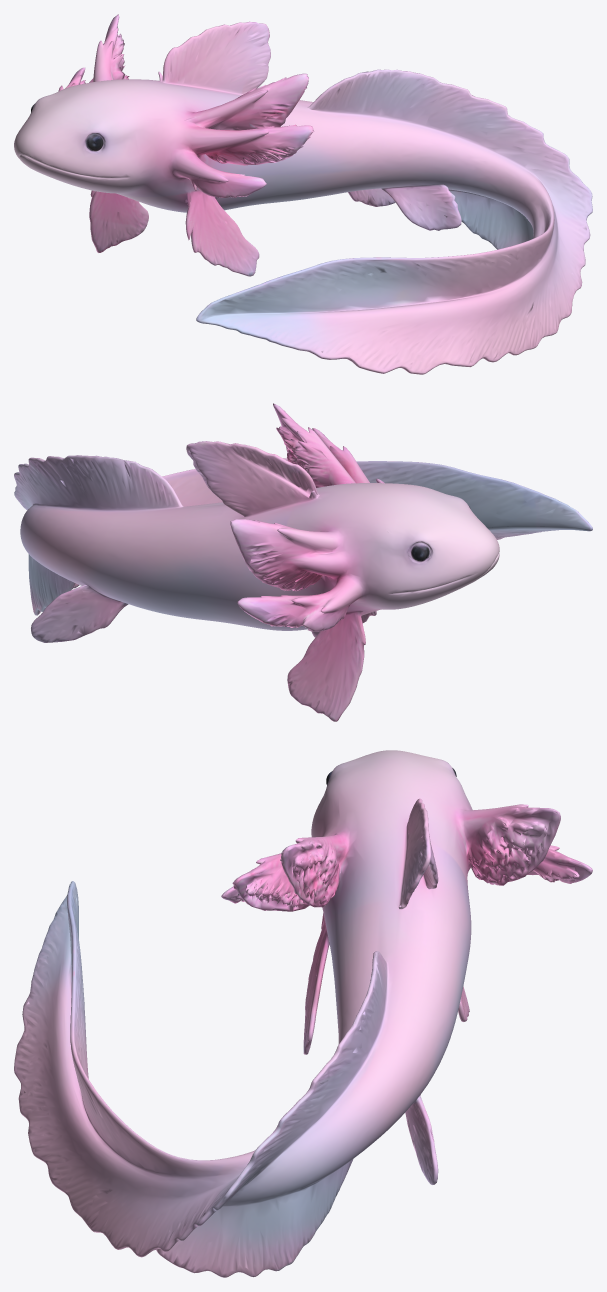
File: exolt.glb
3 renders of one model, top to bottom at view 1: azimuth 30°, elevation 25°; view 2: azimuth 150°, elevation 25°; view 3: azimuth 270°, elevation 25°, orthographic. The views are drawn at different scales.
Visible parts, largest first — view 1: material; view 2: material; view 3: material.
Boxes of the visible parts, <box> form: material: <box>14,14,592,374</box>; material: <box>14,403,592,721</box>; material: <box>14,750,592,1277</box>.
Bounding box in the file's own units: 1.12 × 0.5626 × 0.9374.
1 material, 1 textured.
